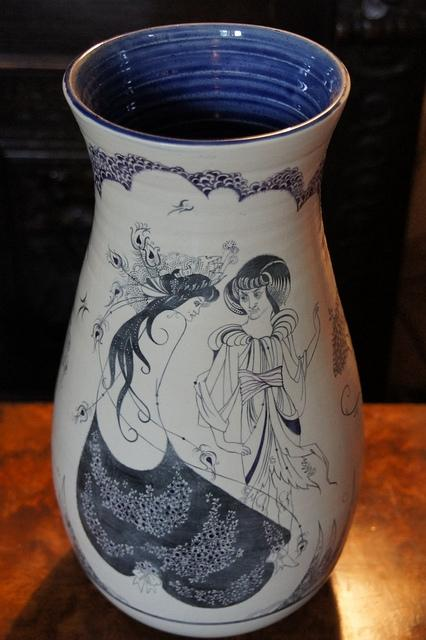strawberry: (238, 366, 283, 406)
